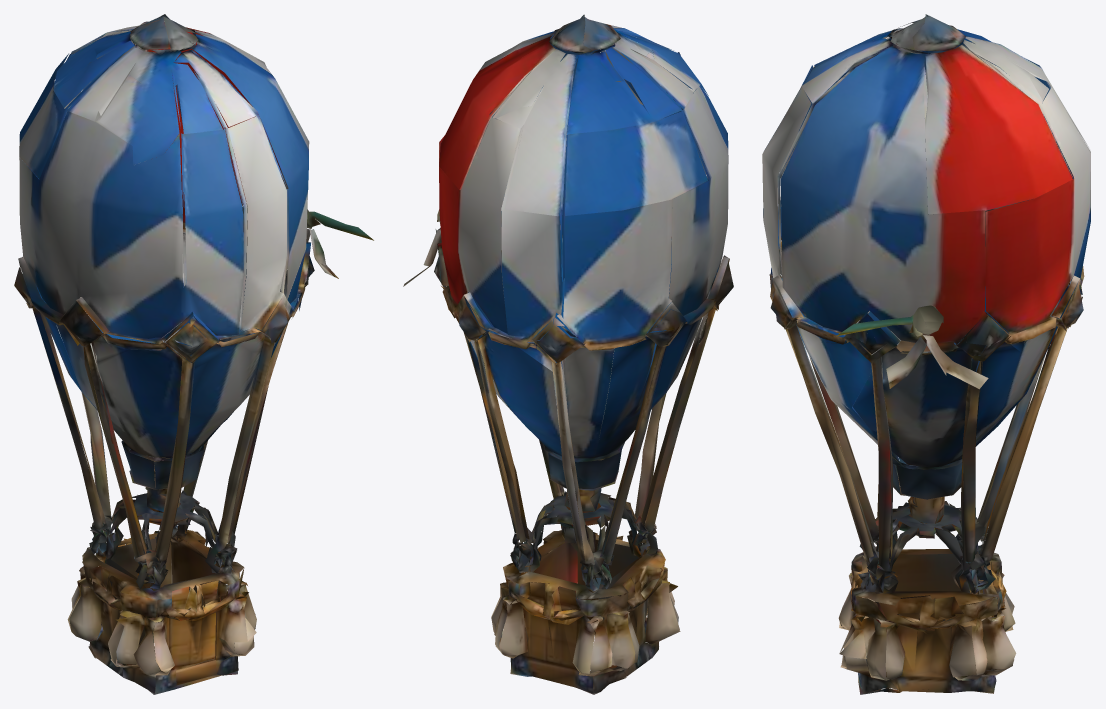
The model's file is balloon_gen_b.glb.
The picture shows the model from 3 angles, left to right: view 1: azimuth 30°, elevation 25°; view 2: azimuth 150°, elevation 25°; view 3: azimuth 270°, elevation 25°; orthographic projection. The views are drawn at different scales.
Visible parts, largest first — view 1: balloon_gen.001; view 2: balloon_gen.001; view 3: balloon_gen.001.
Boxes of the visible parts, x1,y1,x2,y2 form: balloon_gen.001: (14, 14, 373, 694); balloon_gen.001: (403, 14, 733, 694); balloon_gen.001: (762, 14, 1090, 694).
Size of the model in its own units: 7.52 by 15.98 by 7.22.
Materials: 1 (1 with a texture image).
